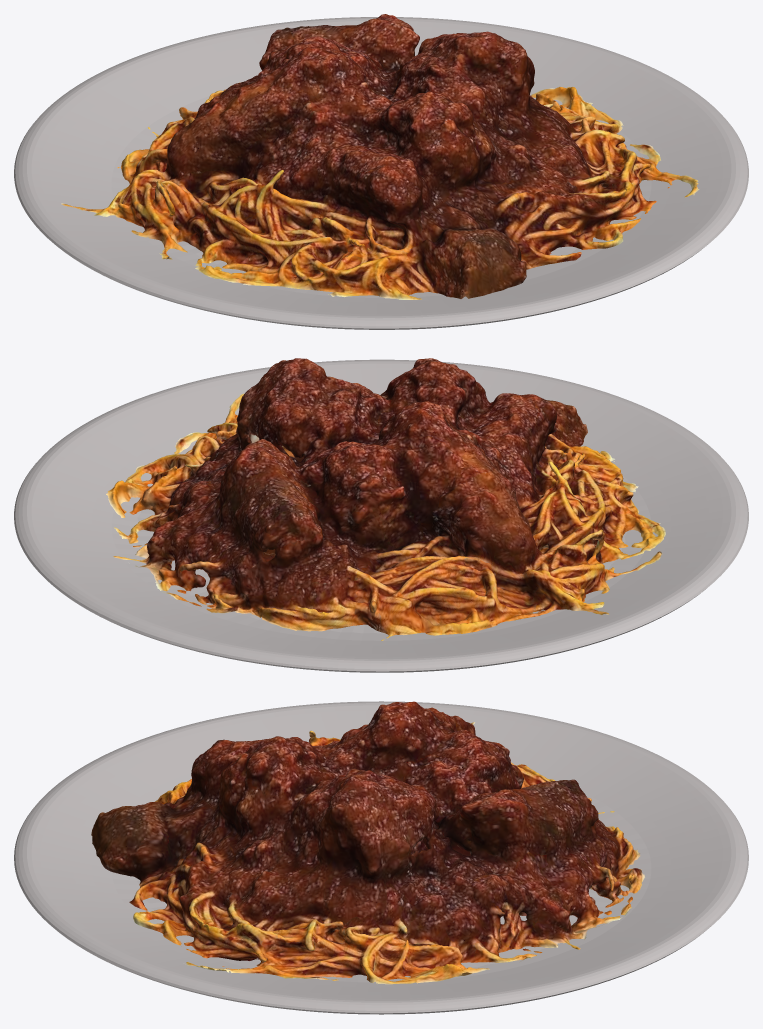
The model's file is massa-almondegas-linguica-android.glb.
3 renders of one model, top to bottom at view 1: azimuth 30°, elevation 25°; view 2: azimuth 150°, elevation 25°; view 3: azimuth 270°, elevation 25°, orthographic.
Parts seen in each view (by area): view 1: Object_4, Object_7, Object_5; view 2: Object_4, Object_7, Object_5; view 3: Object_7, Object_4, Object_5.
Part boxes in pixels (<box>): Object_4: <box>148,14,626,293</box>; Object_7: <box>14,17,748,329</box>; Object_5: <box>61,16,699,299</box>; Object_4: <box>114,358,633,640</box>; Object_7: <box>14,359,748,672</box>; Object_5: <box>106,384,665,637</box>; Object_7: <box>14,701,748,1014</box>; Object_4: <box>129,701,644,961</box>; Object_5: <box>91,722,631,984</box>.
Size of the model in its own units: 0.26 by 0.0641 by 0.26.
Materials: 2 (1 with a texture image).
